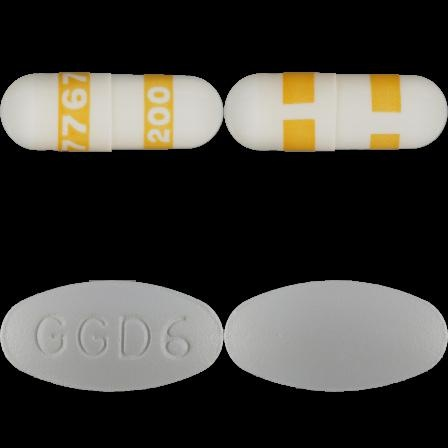53217-157: (0, 0, 224, 224)
